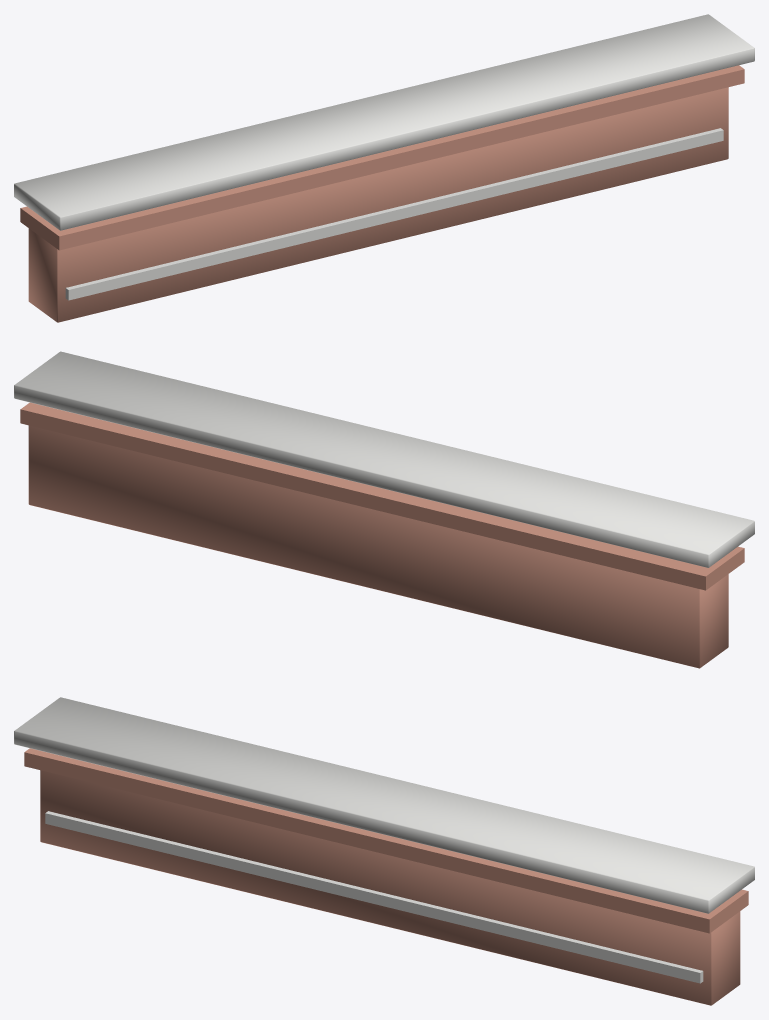
File: Roof_Parapet.fbx
3 renders of one model, top to bottom at view 1: azimuth 30°, elevation 25°; view 2: azimuth 150°, elevation 25°; view 3: azimuth 330°, elevation 25°, orthographic.
Parts seen in each view (by area): view 1: LOD0; view 2: LOD0; view 3: LOD0.
Boxes of the visible parts, x1,y1,x2,y2 form: LOD0: (14, 14, 754, 322); LOD0: (14, 351, 754, 668); LOD0: (14, 697, 754, 1005).
Size of what is drawn, in the model's own units: 414 by 68 by 48.
